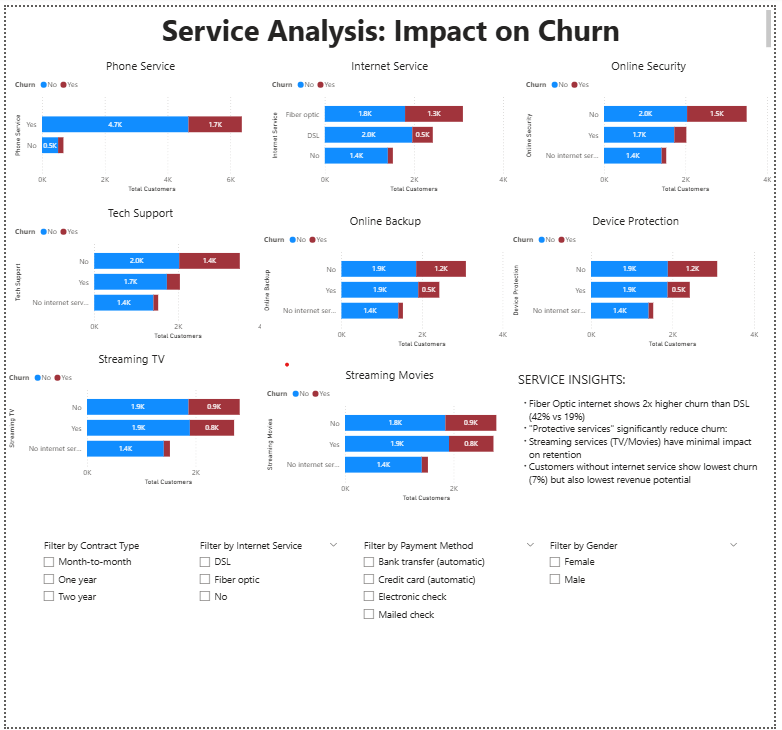

Layout of this report page (visuals, bound fields, positions):
{"tool":"powerbi","page":{"name":"Service Analysis","canvas":[1280,1200],"ordinal":1},"visuals":[{"type":"textbox","box":[9.6,0,1270.4,72.8],"z":0},{"type":"barChart","title":"Phone Service","fields":{"Category":["telco_customer_churn.PhoneService"],"Y":["telco_customer_churn.Total Customers"],"Series":["telco_customer_churn.Churn"]},"box":[9.6,85.2,428.5,229.4],"z":1000},{"type":"barChart","title":"Internet Service","fields":{"Y":["telco_customer_churn.Total Customers"],"Series":["telco_customer_churn.Churn"],"Category":["telco_customer_churn.InternetService"]},"box":[438.1,85.2,402.4,229.4],"z":2000},{"type":"barChart","title":"Online Security","fields":{"Y":["telco_customer_churn.Total Customers"],"Series":["telco_customer_churn.Churn"],"Category":["telco_customer_churn.OnlineSecurity"]},"box":[861.1,85.2,418.9,229.4],"z":3000},{"type":"barChart","title":"Tech Support","fields":{"Y":["telco_customer_churn.Total Customers"],"Series":["telco_customer_churn.Churn"],"Category":["telco_customer_churn.TechSupport"]},"box":[9.6,329.6,428.5,229.4],"z":4000},{"type":"barChart","title":"Online Backup","fields":{"Y":["telco_customer_churn.Total Customers"],"Series":["telco_customer_churn.Churn"],"Category":["telco_customer_churn.OnlineBackup"]},"box":[425.8,343.3,414.8,229.4],"z":5000},{"type":"barChart","title":"Device Protection","fields":{"Y":["telco_customer_churn.Total Customers"],"Series":["telco_customer_churn.Churn"],"Category":["telco_customer_churn.DeviceProtection"]},"box":[840.5,343.3,418.9,229.4],"z":6000},{"type":"barChart","title":"Streaming TV","fields":{"Y":["telco_customer_churn.Total Customers"],"Series":["telco_customer_churn.Churn"],"Category":["telco_customer_churn.StreamingTV"]},"box":[0,572.7,418.7,229.4],"z":7000},{"type":"barChart","title":"Streaming Movies","fields":{"Y":["telco_customer_churn.Total Customers"],"Series":["telco_customer_churn.Churn"],"Category":["telco_customer_churn.StreamingMovies"]},"box":[429.9,600,418.7,229.4],"z":8000},{"type":"slicer","fields":{"Values":["telco_customer_churn.gender"]},"box":[893.6,882.4,338.5,162],"z":9000},{"type":"slicer","fields":{"Values":["telco_customer_churn.Contract"]},"box":[49.7,882.4,229.4,174.9],"z":10000},{"type":"slicer","fields":{"Values":["telco_customer_churn.InternetService"]},"box":[309.6,882.4,255.1,162],"z":11000},{"type":"slicer","fields":{"Values":["telco_customer_churn.PaymentMethod"]},"box":[584,882.4,309.6,162],"z":12000},{"type":"textbox","box":[848.7,600,410.7,229.4],"z":13000}]}

Visuals, with their boxes in screenshot pixels (x1, y1, x2, y2), scaled from the page's 1280x1200 canvas onto the 782x730 screenshot:
textbox: left=6, top=0, right=781, bottom=44
"Phone Service" barChart: left=6, top=52, right=268, bottom=191
"Internet Service" barChart: left=268, top=52, right=513, bottom=191
"Online Security" barChart: left=526, top=52, right=781, bottom=191
"Tech Support" barChart: left=6, top=201, right=268, bottom=340
"Online Backup" barChart: left=260, top=209, right=514, bottom=348
"Device Protection" barChart: left=513, top=209, right=769, bottom=348
"Streaming TV" barChart: left=0, top=348, right=256, bottom=488
"Streaming Movies" barChart: left=263, top=365, right=518, bottom=505
slicer - telco_customer_churn.gender: left=546, top=537, right=753, bottom=635
slicer - telco_customer_churn.Contract: left=30, top=537, right=171, bottom=643
slicer - telco_customer_churn.InternetService: left=189, top=537, right=345, bottom=635
slicer - telco_customer_churn.PaymentMethod: left=357, top=537, right=546, bottom=635
textbox: left=519, top=365, right=769, bottom=505
